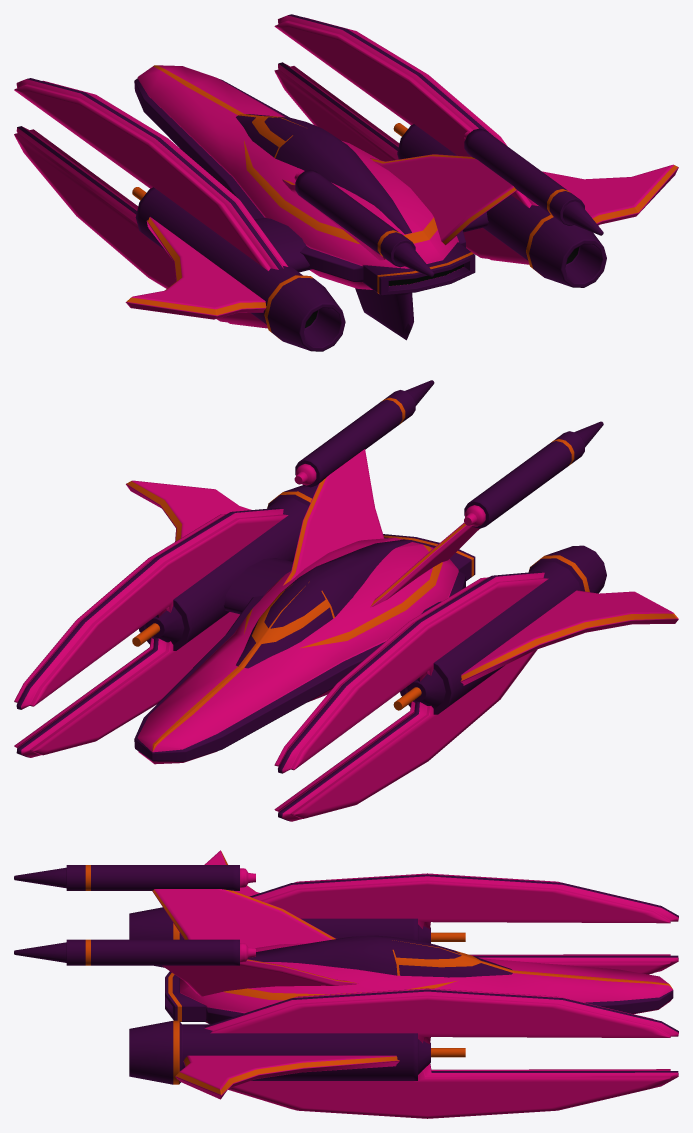
File: AlienStarfighter14.obj
3 renders of one model, top to bottom at view 1: azimuth 30°, elevation 25°; view 2: azimuth 150°, elevation 25°; view 3: azimuth 270°, elevation 25°, orthographic. The views are drawn at different scales.
Visible parts, largest first — view 1: Cylinder.003_Cylinder.005, Sphere_Sphere.002, Cylinder.001_Cylinder.006, Cube.002_Cube.003, Cylinder.005_Cylinder.011, Cube.003_Cube.004, Sphere.001_Sphere.003, Cylinder.006_Cylinder.007, Cylinder; view 2: Cylinder.003_Cylinder.005, Sphere_Sphere.002, Cylinder.001_Cylinder.006, Cube.002_Cube.003, Cylinder.005_Cylinder.011, Cube.003_Cube.004, Sphere.001_Sphere.003, Cylinder; view 3: Cylinder.003_Cylinder.005, Cylinder.001_Cylinder.006, Sphere_Sphere.002, Cylinder.005_Cylinder.011, Cube.003_Cube.004, Sphere.001_Sphere.003, Cube.002_Cube.003.
Part boxes in pixels (bbox=[...]): Cylinder.003_Cylinder.005: bbox=[14, 14, 538, 328]; Sphere_Sphere.002: bbox=[134, 65, 475, 295]; Cylinder.001_Cylinder.006: bbox=[132, 123, 606, 351]; Cube.002_Cube.003: bbox=[125, 164, 678, 319]; Cylinder.005_Cylinder.011: bbox=[294, 128, 603, 276]; Cube.003_Cube.004: bbox=[282, 154, 517, 260]; Sphere.001_Sphere.003: bbox=[236, 114, 411, 234]; Cylinder.006_Cylinder.007: bbox=[355, 288, 413, 340]; Cylinder: bbox=[254, 212, 488, 272]; Cylinder.003_Cylinder.005: bbox=[14, 507, 548, 821]; Sphere_Sphere.002: bbox=[134, 534, 475, 764]; Cylinder.001_Cylinder.006: bbox=[132, 484, 606, 714]; Cube.002_Cube.003: bbox=[126, 480, 678, 685]; Cylinder.005_Cylinder.011: bbox=[294, 380, 603, 528]; Cube.003_Cube.004: bbox=[282, 449, 479, 607]; Sphere.001_Sphere.003: bbox=[236, 539, 411, 668]; Cylinder: bbox=[224, 558, 441, 614]; Cylinder.003_Cylinder.005: bbox=[204, 873, 678, 1118]; Cylinder.001_Cylinder.006: bbox=[129, 907, 465, 1084]; Sphere_Sphere.002: bbox=[165, 943, 673, 1024]; Cylinder.005_Cylinder.011: bbox=[14, 865, 255, 965]; Cube.003_Cube.004: bbox=[152, 889, 359, 996]; Sphere.001_Sphere.003: bbox=[248, 935, 514, 977]; Cube.002_Cube.003: bbox=[175, 850, 399, 1099].
Size of the model in its own units: 6.8 by 2.15 by 7.83.
